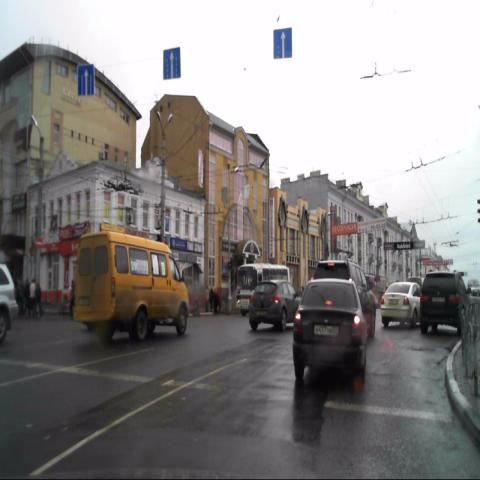5_15_2: (273, 27, 292, 59), (163, 47, 181, 79), (78, 64, 94, 95)
